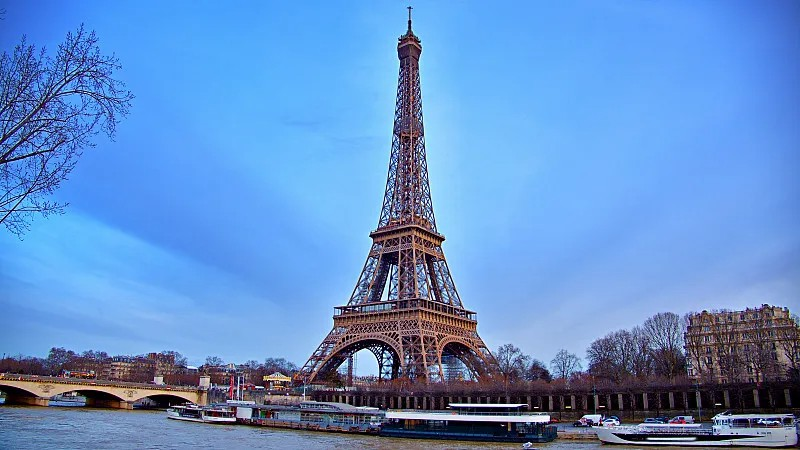Eiffel: (298, 6, 505, 381)
